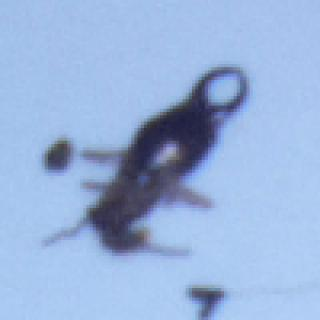earwig: (44, 66, 256, 262)
